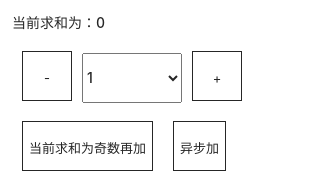
Test: Count / › increment-asyn the count through redux
Click the button with test id "increment-async". click: (200, 146)
box: [173, 121, 226, 171]
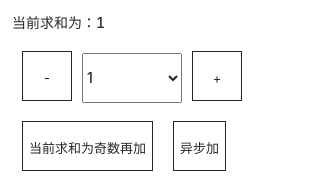
Expected: the text with test id "count" reads "1", [96, 14, 105, 31]
